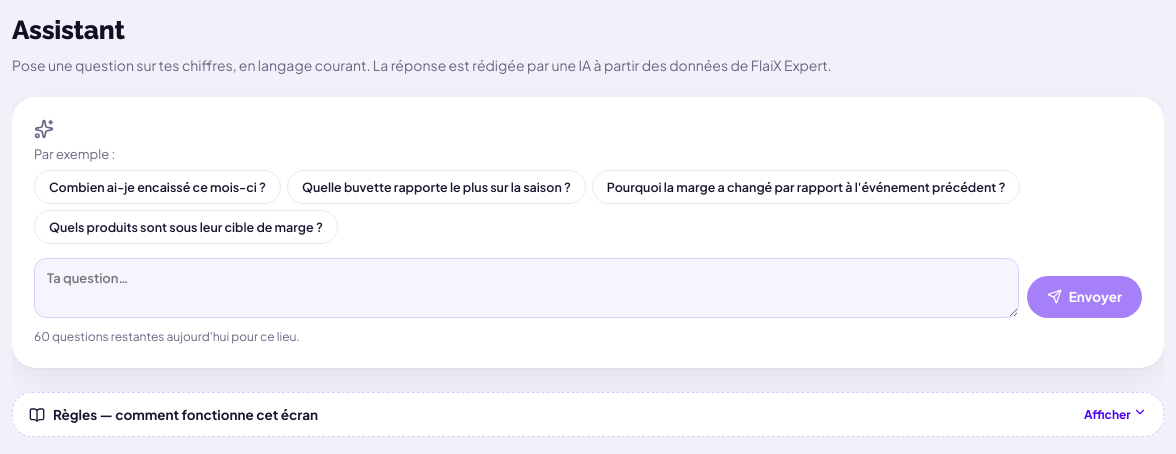
Scenario: assistant à l'écran › une question suggérée : réponse « rédigée par une IA », sources lues, chiffre non retrouvé signalé
Click the button "Combien ai-je encaissé ce mois-ci ?" at x=158, y=187, box [34,170,281,204]
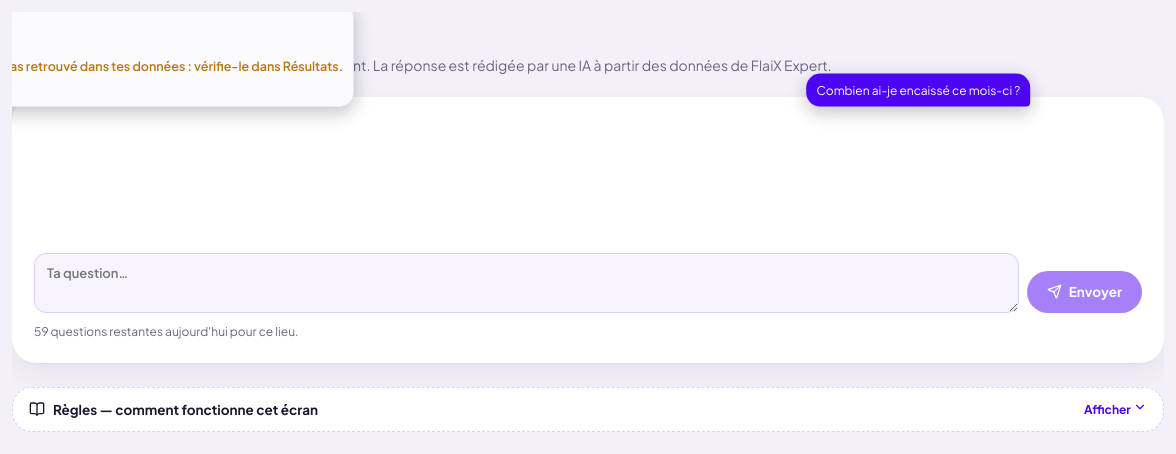
Now the text "59 questions restantes aujourd'hui pour ce lieu." is shown, box [34,324,298,339]
